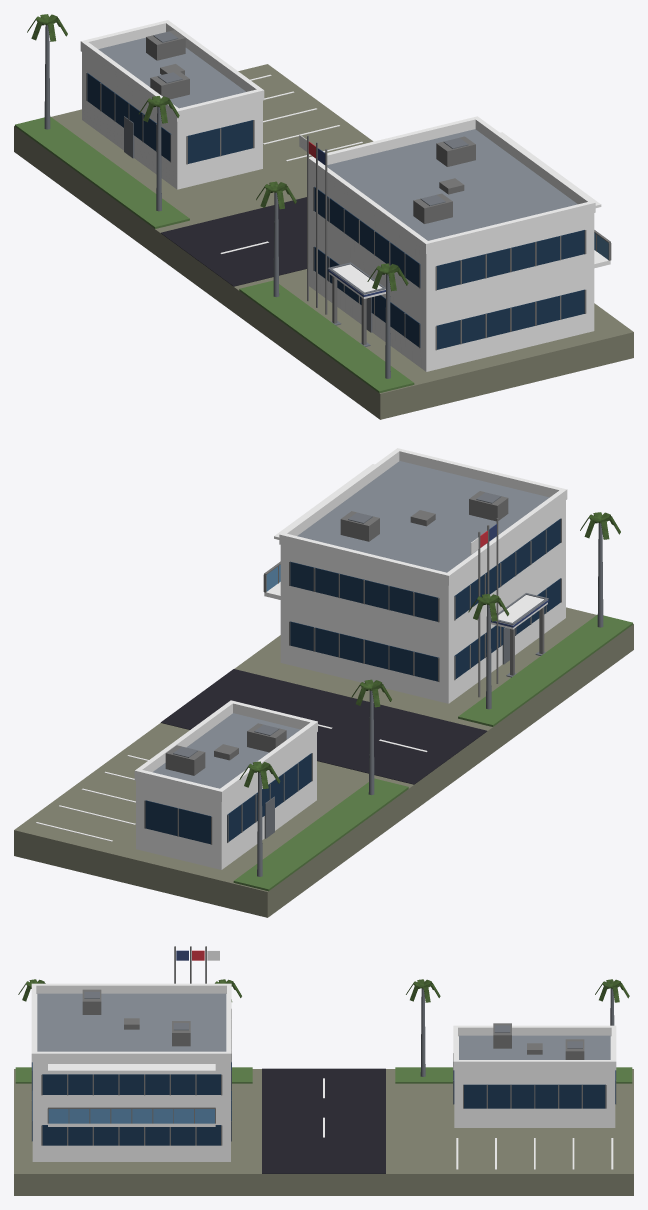
File: port_building_close.fbx
The picture shows the model from 3 angles, top to bottom: view 1: azimuth 30°, elevation 25°; view 2: azimuth 150°, elevation 25°; view 3: azimuth 270°, elevation 25°; orthographic projection. The views are drawn at different scales.
Visible parts, largest first — view 1: a1095_0_port_building_close; view 2: a1095_0_port_building_close; view 3: a1095_0_port_building_close.
Part boxes in pixels (x1,y1,x2,y2): a1095_0_port_building_close: (14, 14, 633, 419); a1095_0_port_building_close: (14, 448, 633, 917); a1095_0_port_building_close: (14, 946, 633, 1195).
Bounding box in the file's own units: 16 × 11.5 × 40.
